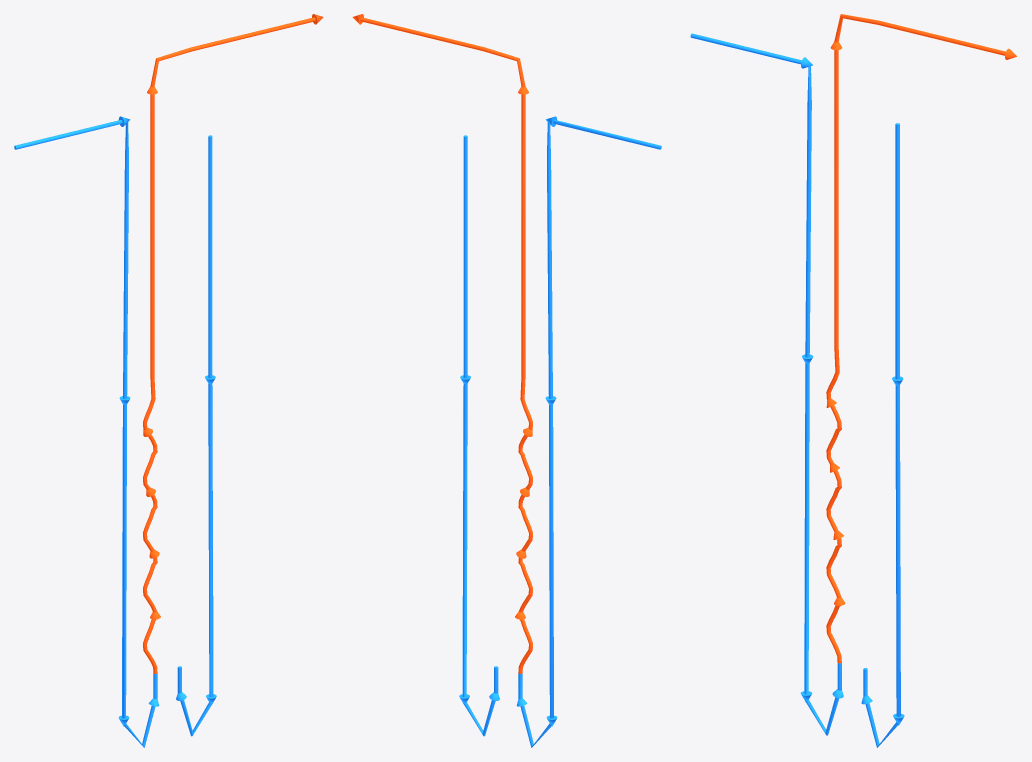
Rendered from condensate_extraction_pump_flow.glb.
The picture shows the model from 3 angles, left to right: view 1: azimuth 30°, elevation 25°; view 2: azimuth 150°, elevation 25°; view 3: azimuth 330°, elevation 25°; orthographic projection. The views are drawn at different scales.
Parts seen in each view (by area): view 1: flow_discharge, flow_suction, flow_suction2; view 2: flow_discharge, flow_suction, flow_suction2; view 3: flow_suction, flow_discharge, flow_suction2.
Boxes of the visible parts, box(x1,y1,x2,y2) form: flow_discharge: box(143, 14, 323, 673); flow_suction: box(14, 116, 159, 747); flow_suction2: box(176, 135, 216, 736); flow_discharge: box(352, 14, 532, 673); flow_suction: box(516, 116, 661, 747); flow_suction2: box(459, 135, 499, 736); flow_suction: box(690, 33, 843, 735); flow_discharge: box(826, 14, 1016, 663); flow_suction2: box(861, 123, 904, 747).
Bounding box in the file's own units: 1.52 × 3.25 × 0.0468.
